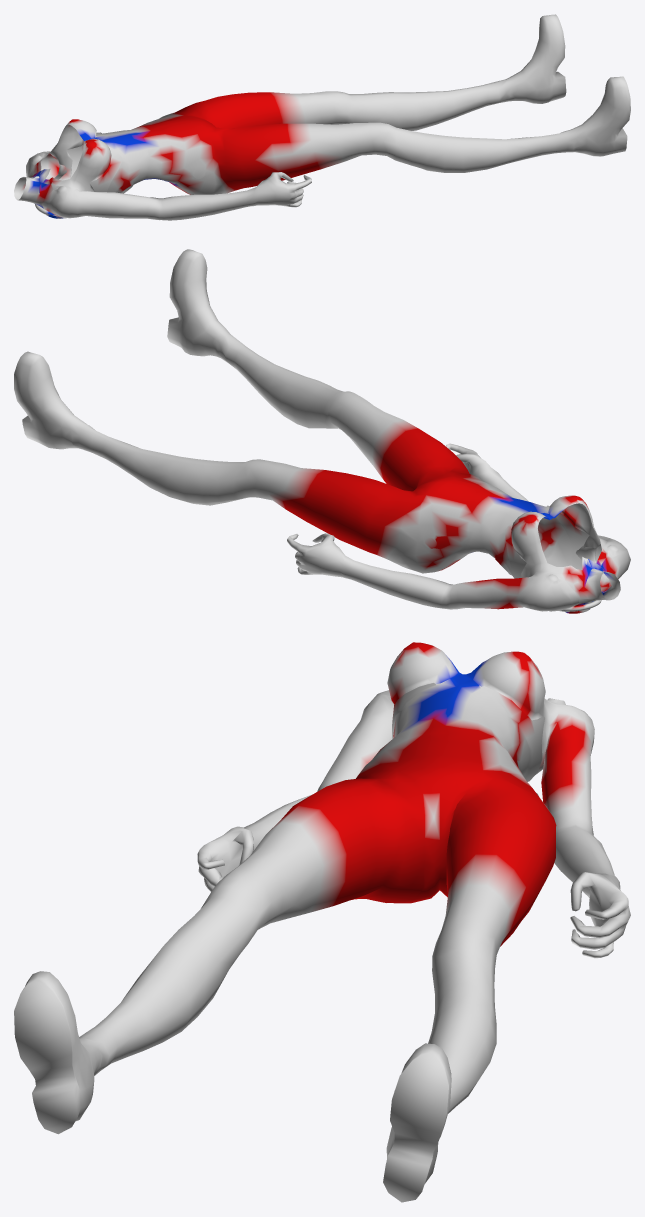
3 renders of one model, top to bottom at view 1: azimuth 30°, elevation 25°; view 2: azimuth 150°, elevation 25°; view 3: azimuth 270°, elevation 25°, orthographic. The views are drawn at different scales.
Parts seen in each view (by area): view 1: default; view 2: default; view 3: default.
Part boxes in pixels (box(x1,y1,x2,y2)): default: box(14, 14, 630, 220); default: box(14, 249, 630, 613); default: box(14, 642, 630, 1202).
Size of the model in its own units: 1.46 by 0.3039 by 0.7804.
